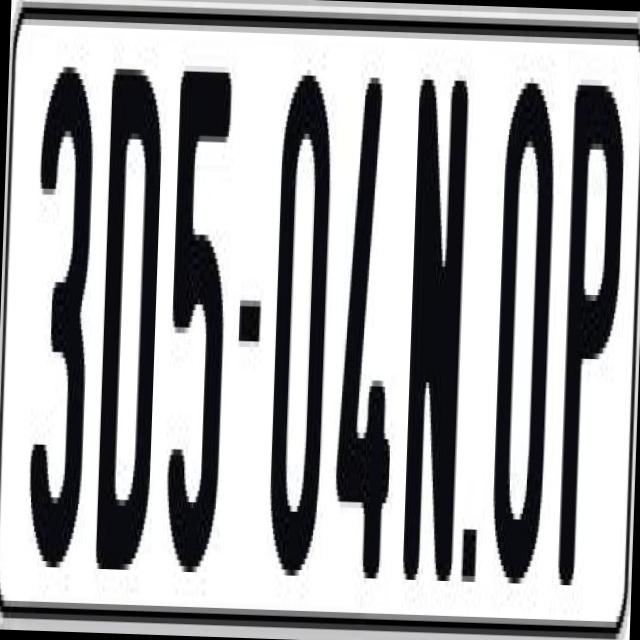0: (268, 57, 342, 565), (490, 64, 562, 584)
3: (26, 66, 100, 592)
4: (330, 59, 410, 597)
5: (162, 59, 240, 590)
D: (92, 50, 167, 582)
N: (400, 68, 470, 574)
P: (554, 67, 624, 604)
